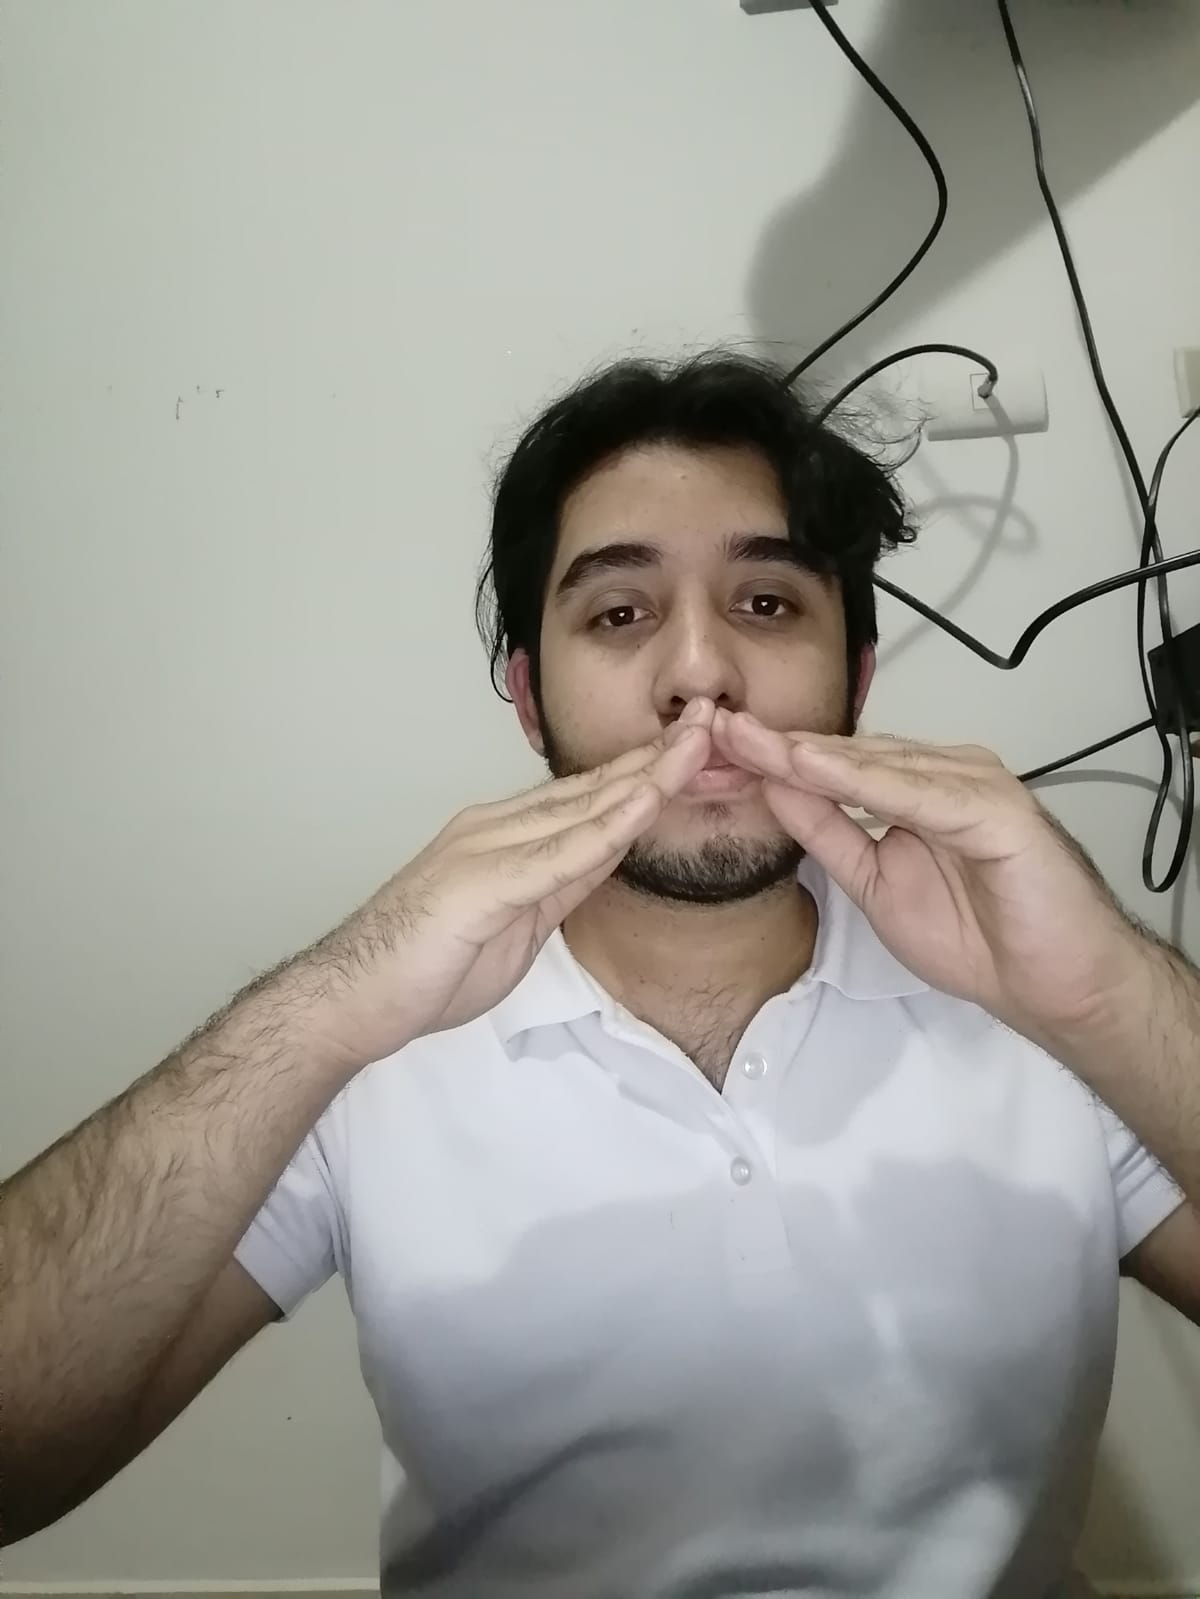House: (355, 696, 1133, 1048)
